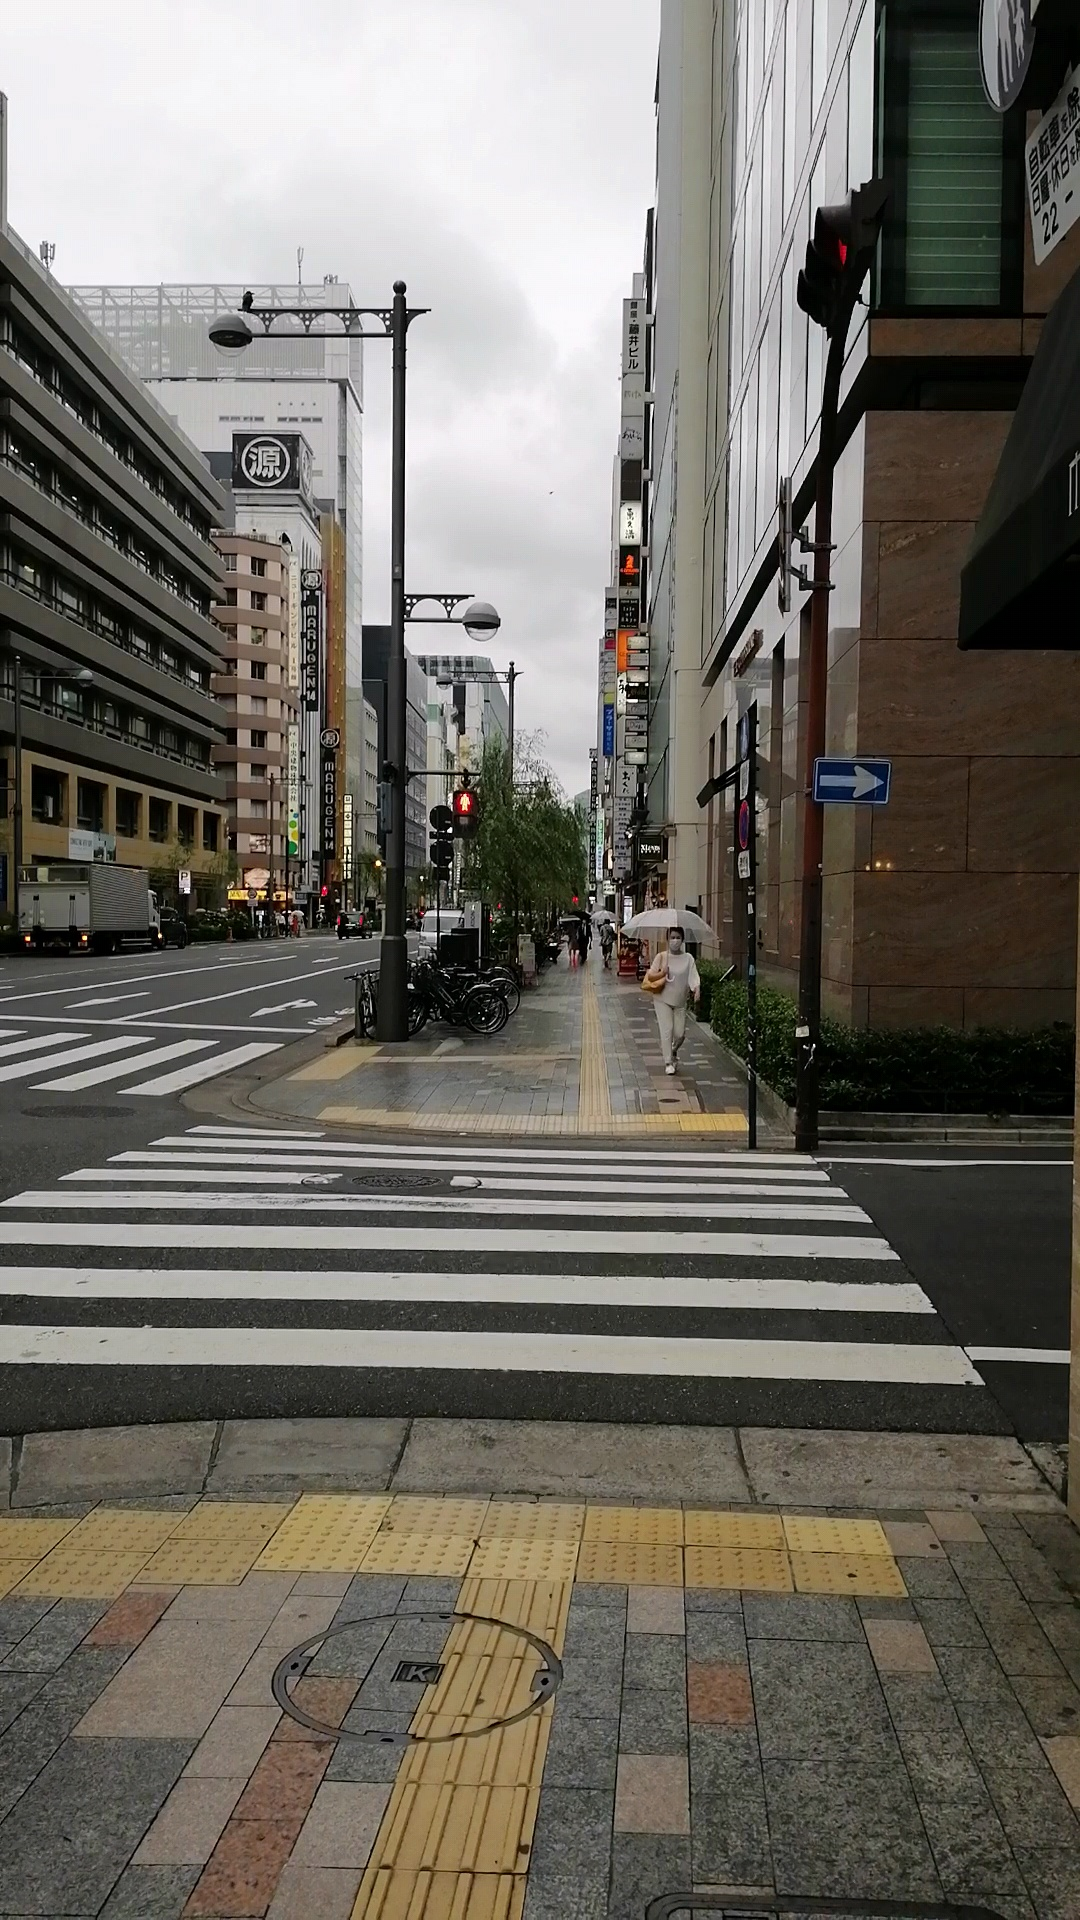red: (448, 789, 480, 841)
